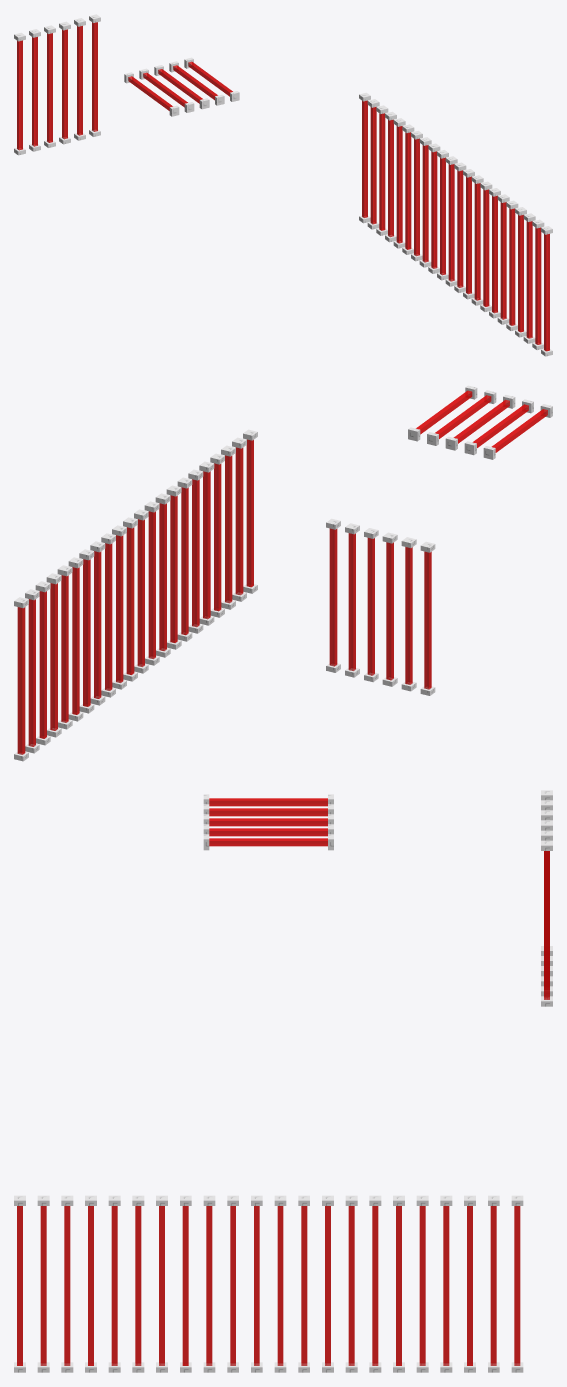
The model's file is laser.obj.
3 renders of one model, top to bottom at view 1: azimuth 30°, elevation 25°; view 2: azimuth 150°, elevation 25°; view 3: azimuth 270°, elevation 25°, orthographic. The views are drawn at different scales.
Visible parts, largest first — view 1: StructureBaseHome45, StructureBaseHome51, StructureBaseHome60, StructureBaseHome66, StructureBaseHome75, StructureBaseHome87, StructureBaseHome99, StructureBaseHome39, StructureBaseHome42, StructureBaseHome69, StructureBaseHome78, StructureBaseHome81 (+16 smaller); view 2: StructureBaseHome3, StructureBaseHome75, StructureBaseHome48, StructureBaseHome9, StructureBaseHome63, StructureBaseHome39, StructureBaseHome60, StructureBaseHome66, StructureBaseHome69, StructureBaseHome84, StructureBaseHome87, StructureBaseHome93 (+21 smaller); view 3: StructureBaseHome3, StructureBaseHome39, StructureBaseHome45, StructureBaseHome48, StructureBaseHome51, StructureBaseHome60, StructureBaseHome66, StructureBaseHome69, StructureBaseHome72, StructureBaseHome75, StructureBaseHome87, StructureBaseHome93 (+16 smaller).
Boxes of the visible parts, <box> form: StructureBaseHome45: <box>370,107,376,224</box>; StructureBaseHome51: <box>526,221,532,338</box>; StructureBaseHome60: <box>474,183,480,300</box>; StructureBaseHome66: <box>500,202,506,319</box>; StructureBaseHome75: <box>448,164,454,281</box>; StructureBaseHome87: <box>396,126,402,243</box>; StructureBaseHome99: <box>422,145,428,262</box>; StructureBaseHome39: <box>483,189,489,306</box>; StructureBaseHome42: <box>379,113,385,230</box>; StructureBaseHome69: <box>509,208,515,325</box>; StructureBaseHome78: <box>431,151,437,268</box>; StructureBaseHome81: <box>457,170,463,287</box>; StructureBaseHome3: <box>17,607,25,754</box>; StructureBaseHome75: <box>126,527,134,674</box>; StructureBaseHome48: <box>235,447,243,595</box>; StructureBaseHome9: <box>329,528,337,666</box>; StructureBaseHome63: <box>181,487,188,635</box>; StructureBaseHome39: <box>170,495,177,642</box>; StructureBaseHome60: <box>159,503,166,650</box>; StructureBaseHome66: <box>192,479,199,627</box>; StructureBaseHome69: <box>203,471,210,619</box>; StructureBaseHome84: <box>148,511,155,658</box>; StructureBaseHome87: <box>61,575,68,722</box>; StructureBaseHome93: <box>50,583,57,730</box>; StructureBaseHome3: <box>514,1206,520,1365</box>; StructureBaseHome39: <box>182,1206,188,1365</box>; StructureBaseHome45: <box>490,1206,496,1365</box>; StructureBaseHome48: <box>40,1206,46,1365</box>; StructureBaseHome51: <box>64,1206,70,1365</box>; StructureBaseHome60: <box>206,1206,212,1365</box>; StructureBaseHome66: <box>135,1206,141,1365</box>; StructureBaseHome69: <box>111,1206,117,1365</box>; StructureBaseHome72: <box>301,1206,307,1365</box>; StructureBaseHome75: <box>277,1206,283,1365</box>; StructureBaseHome87: <box>419,1206,425,1365</box>; StructureBaseHome93: <box>443,1206,449,1365</box>.
Bounding box in the file's own units: 45.5 × 34.5 × 45.5.
2 materials, 1 textured.
